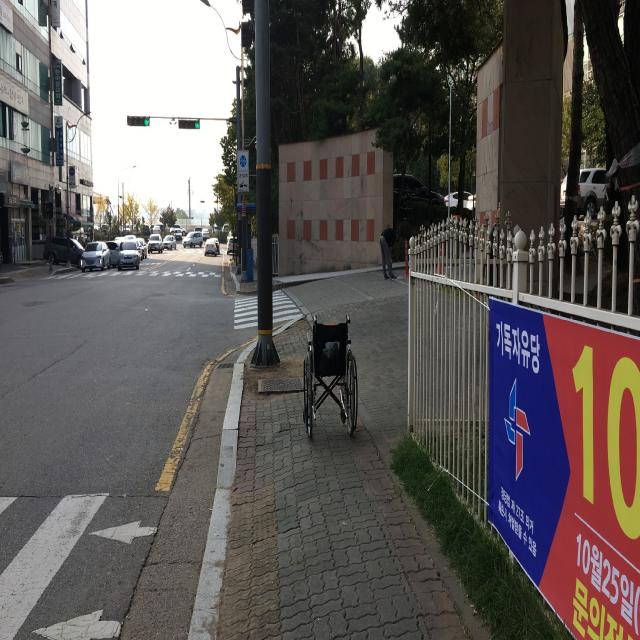횡단보도: (0, 477, 165, 640), (233, 289, 304, 331)
